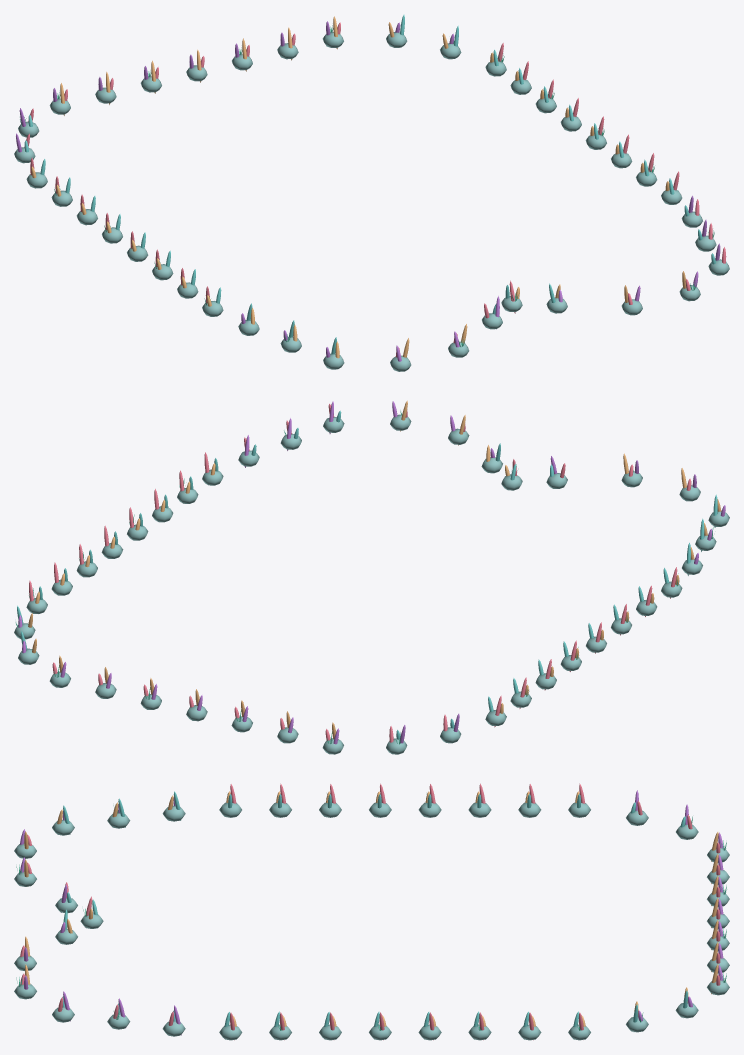
File: reef-14-CLrGGhrg.glb
3 renders of one model, top to bottom at view 1: azimuth 30°, elevation 25°; view 2: azimuth 150°, elevation 25°; view 3: azimuth 270°, elevation 25°, orthographic.
Parts seen in each view (by area): view 1: ReefRock, Coral2, Coral0, Coral3, Coral1; view 2: ReefRock, Coral0, Coral2, Coral3, Coral1; view 3: ReefRock, Coral0, Coral3, Coral2, Coral1.
Boxes of the visible parts, bbox=[...] form: ReefRock: bbox=[14, 32, 729, 371]; Coral2: bbox=[31, 16, 686, 358]; Coral0: bbox=[24, 22, 726, 357]; Coral3: bbox=[24, 14, 715, 354]; Coral1: bbox=[16, 21, 720, 361]; ReefRock: bbox=[14, 414, 729, 754]; Coral0: bbox=[29, 403, 691, 742]; Coral2: bbox=[28, 400, 721, 738]; Coral3: bbox=[17, 410, 717, 739]; Coral1: bbox=[18, 401, 725, 744]; ReefRock: bbox=[14, 802, 729, 1040]; Coral0: bbox=[20, 783, 720, 1040]; Coral3: bbox=[62, 791, 687, 1026]; Coral2: bbox=[24, 791, 718, 1026]; Coral1: bbox=[20, 790, 723, 1035].
Bounding box in the file's own units: 33 × 2.06 × 43.1.
